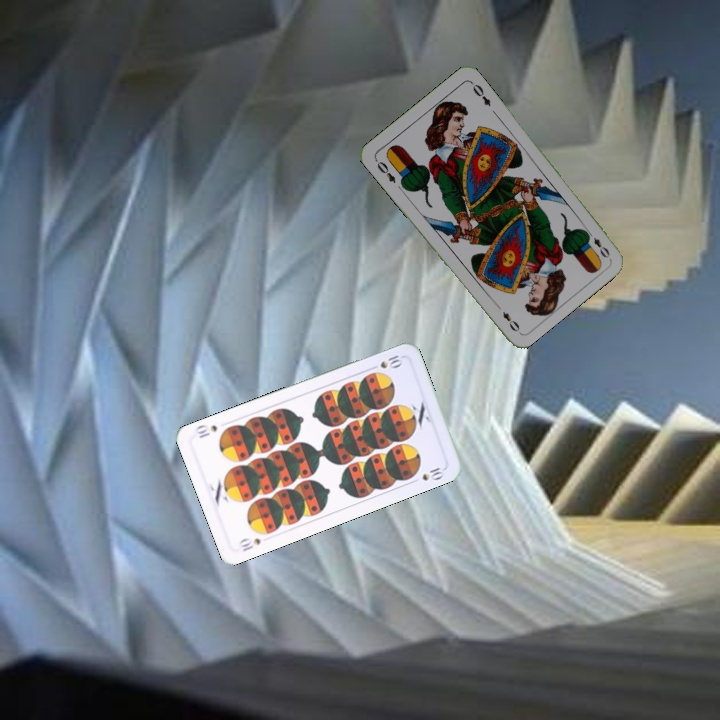EO: (582, 226, 613, 261), (371, 155, 398, 186)
S10: (366, 351, 405, 372), (235, 534, 263, 554)
